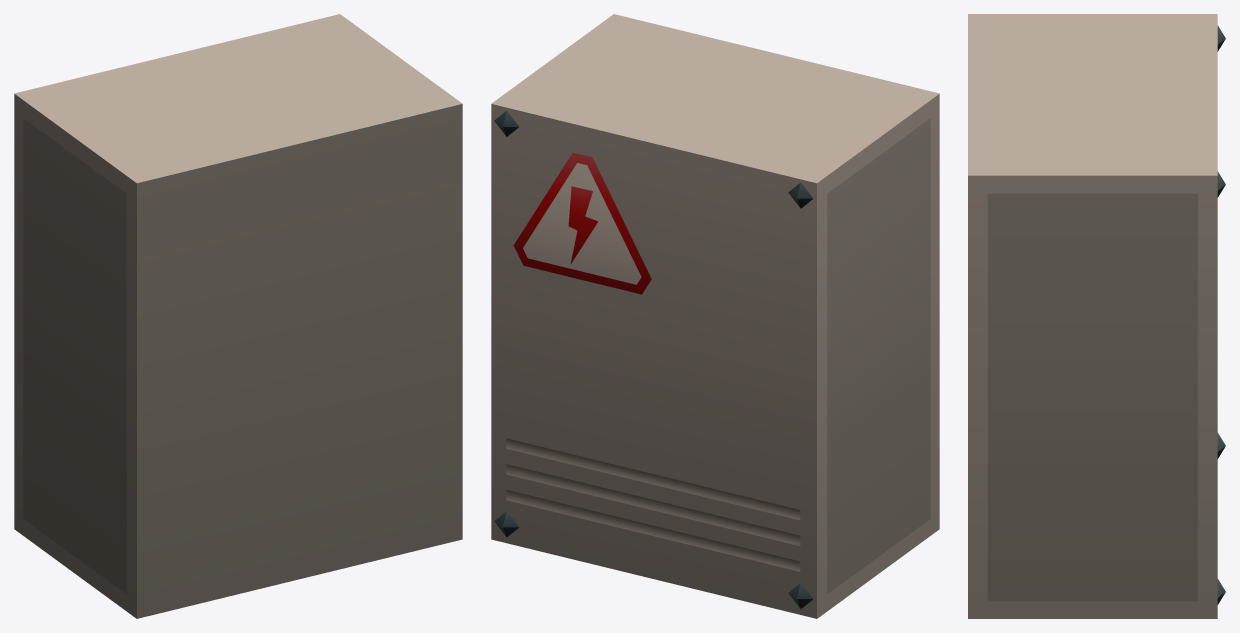
Rendered from Power_Box_1C.fbx.
The picture shows the model from 3 angles, left to right: view 1: azimuth 30°, elevation 25°; view 2: azimuth 150°, elevation 25°; view 3: azimuth 270°, elevation 25°; orthographic projection.
Visible parts, largest first — view 1: Power_Box_1C; view 2: Power_Box_1C; view 3: Power_Box_1C.
Boxes of the visible parts, x1,y1,x2,y2 form: Power_Box_1C: [14, 14, 462, 618]; Power_Box_1C: [491, 14, 939, 618]; Power_Box_1C: [968, 14, 1225, 618].
Bounding box in the file's own units: 184 × 235 × 124.
